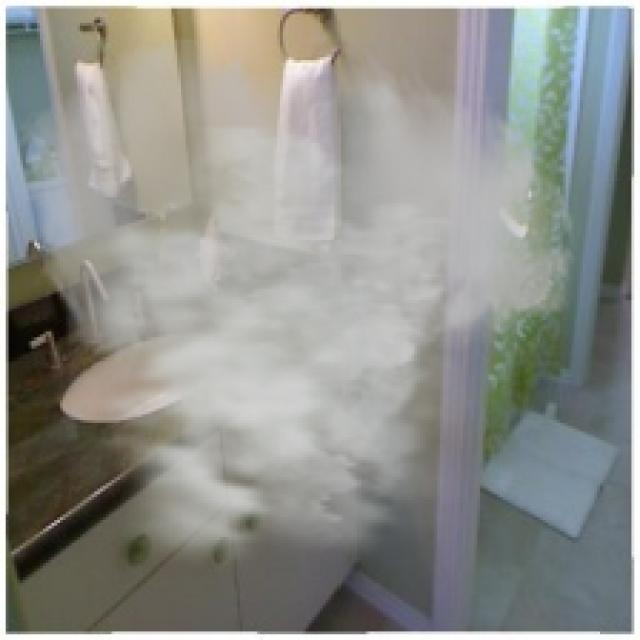Smoke: (11, 34, 580, 592)
